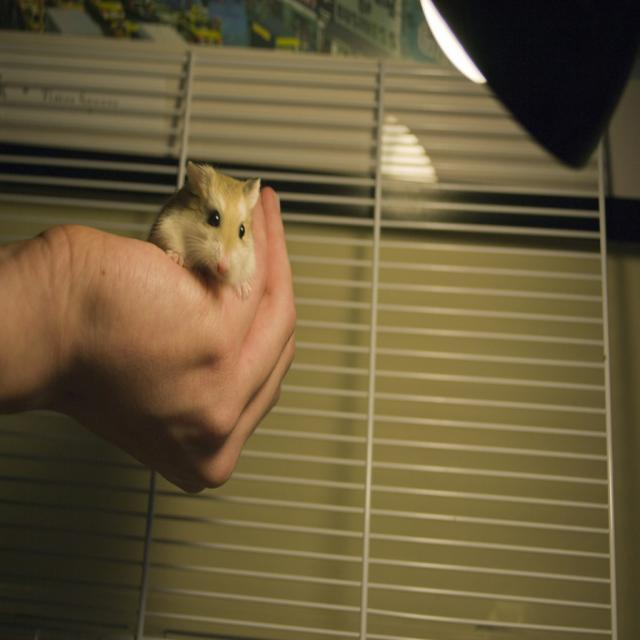rat: (150, 160, 261, 300)
